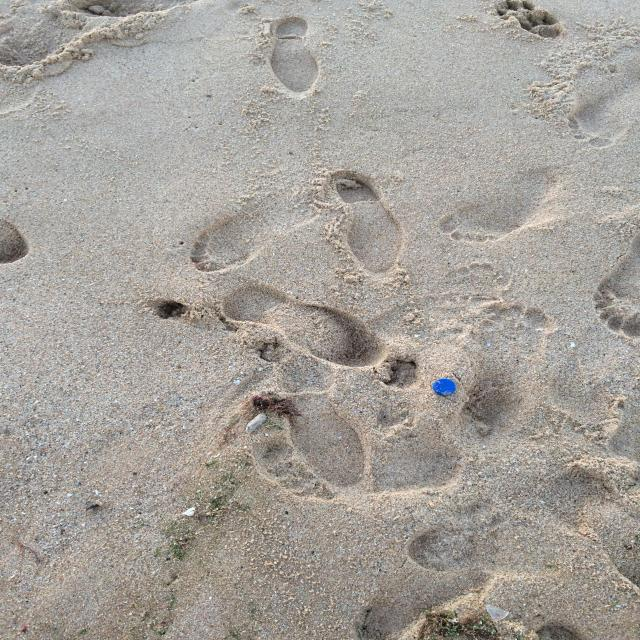Other plastic: (484, 604, 509, 622)
Plastic bottle cap: (433, 378, 456, 395)
